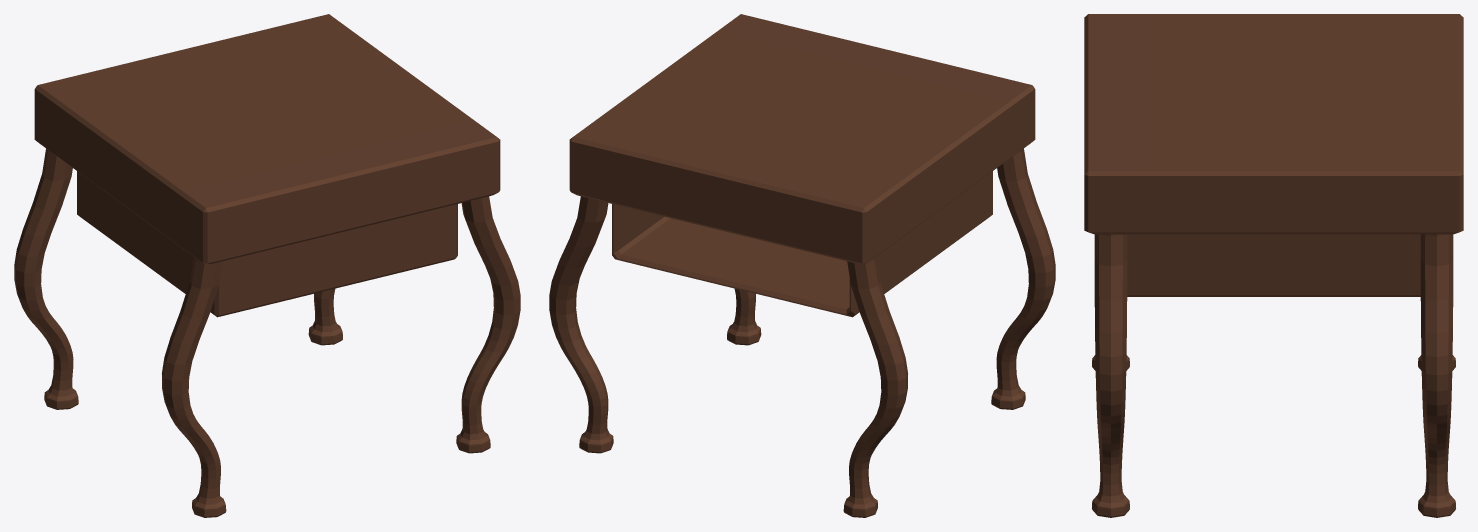
Rendered from night_stand.glb.
3 renders of one model, left to right at view 1: azimuth 30°, elevation 25°; view 2: azimuth 150°, elevation 25°; view 3: azimuth 270°, elevation 25°, orthographic. The views are drawn at different scales.
Parts seen in each view (by area): view 1: Cube.041; view 2: Cube.041; view 3: Cube.041.
Boxes of the visible parts, box(x1,y1,x2,y2) form: Cube.041: box(14, 14, 520, 517); Cube.041: box(549, 14, 1055, 517); Cube.041: box(1084, 14, 1463, 517).
Size of the model in its own units: 1.97 by 1.66 by 1.65.
1 material, 1 textured.
